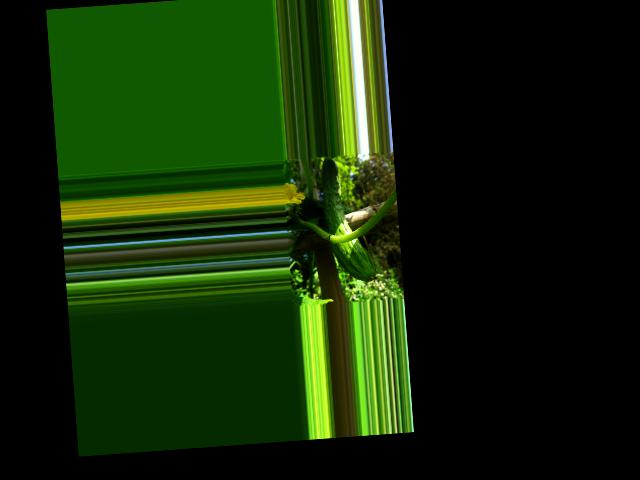cucumber: (319, 153, 376, 284)
